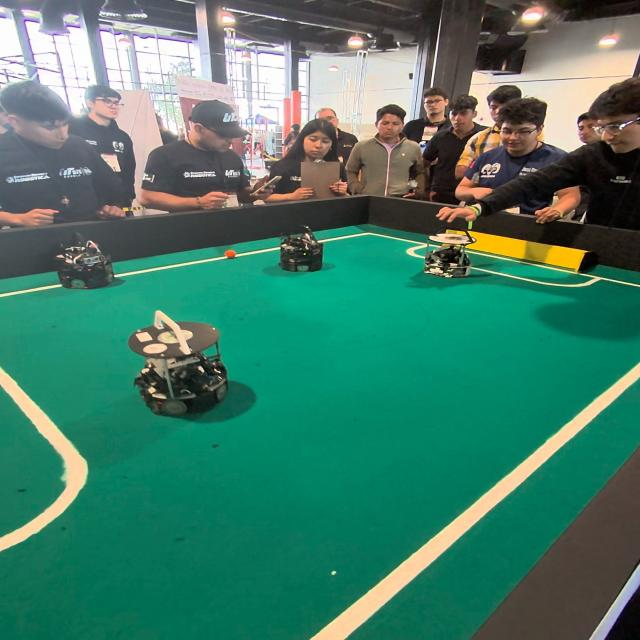Robot: (128, 306, 242, 426), (421, 210, 476, 283), (56, 234, 119, 295), (280, 225, 326, 276)
pelota: (225, 250, 234, 257)
